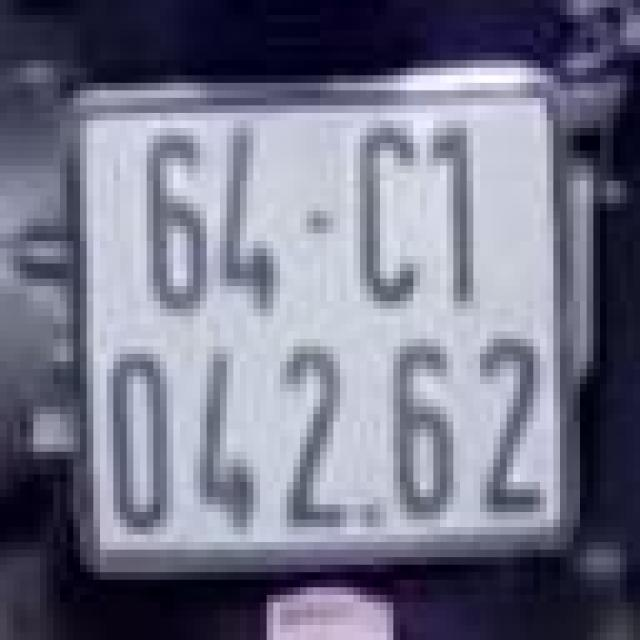0: (90, 331, 183, 542)
1: (426, 113, 486, 316)
2: (264, 320, 364, 531), (474, 316, 554, 520)
4: (200, 98, 300, 331), (200, 331, 267, 527)
6: (117, 120, 210, 324), (380, 327, 467, 531)
C: (346, 101, 446, 328)
